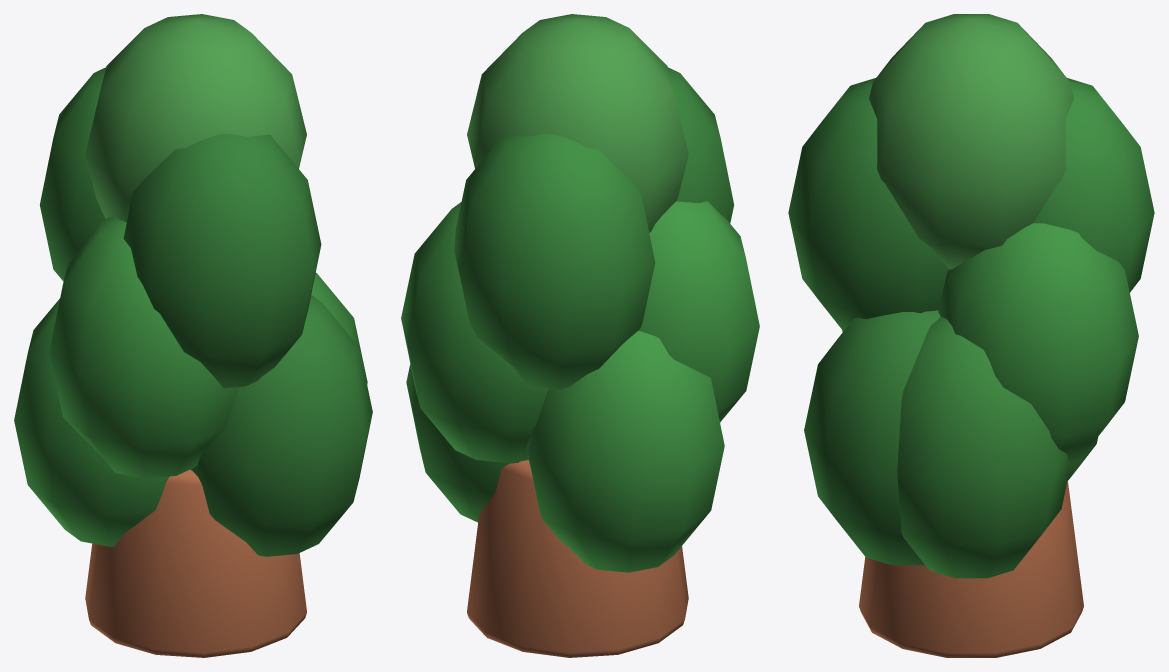
File: f_plant.glb
The picture shows the model from 3 angles, left to right: view 1: azimuth 30°, elevation 25°; view 2: azimuth 150°, elevation 25°; view 3: azimuth 270°, elevation 25°; orthographic projection.
Parts seen in each view (by area): view 1: f_plant; view 2: f_plant; view 3: f_plant.
Part boxes in pixels (left/top/right/bottom): f_plant: left=14, top=14, right=372, bottom=657; f_plant: left=401, top=14, right=759, bottom=657; f_plant: left=788, top=14, right=1154, bottom=657.
Bounding box in the file's own units: 1.08 × 2.02 × 1.13.
